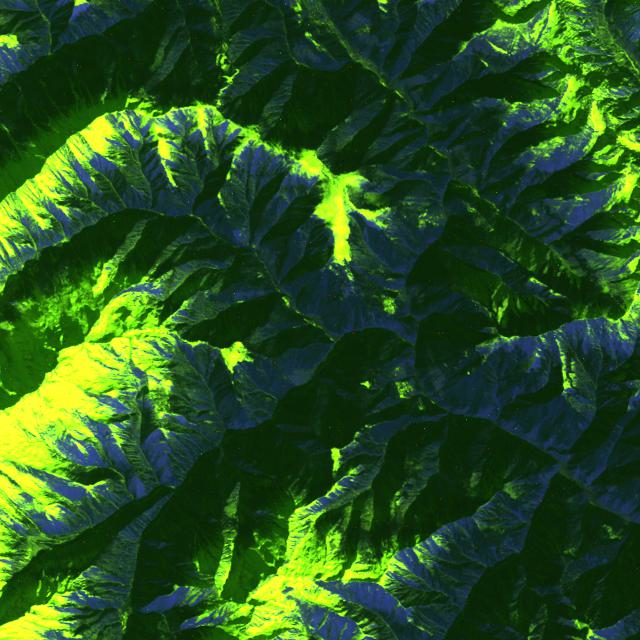landslides: (518, 481, 550, 491), (402, 199, 442, 206), (505, 539, 522, 554), (77, 178, 88, 198), (538, 472, 552, 484), (217, 191, 226, 209), (368, 312, 376, 329), (544, 471, 557, 480), (249, 75, 261, 84)
